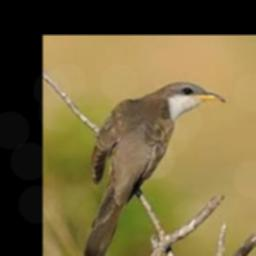Cuckoo: (81, 83, 226, 256)
